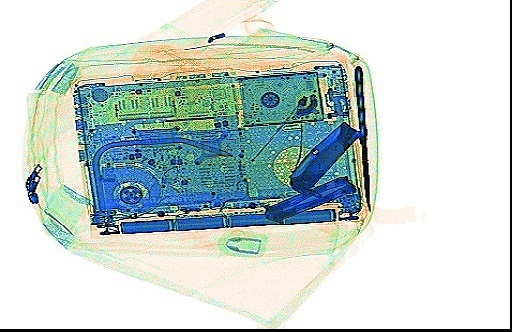knife: (286, 117, 360, 195), (262, 173, 356, 221), (352, 63, 372, 211)
